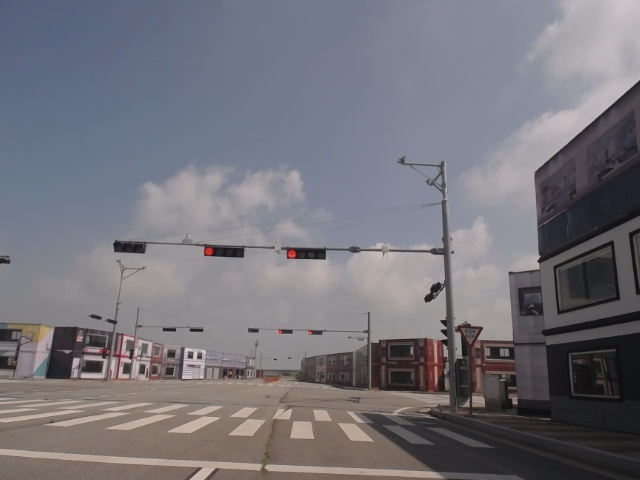red_4: (205, 244, 243, 257), (286, 248, 325, 258)
